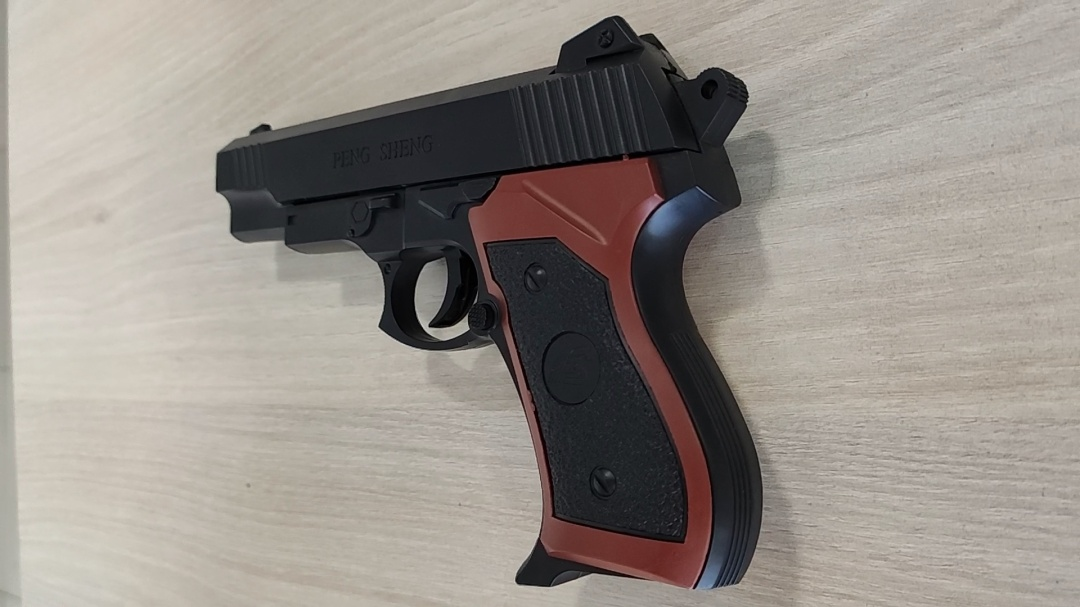gunw: (218, 10, 763, 592)
